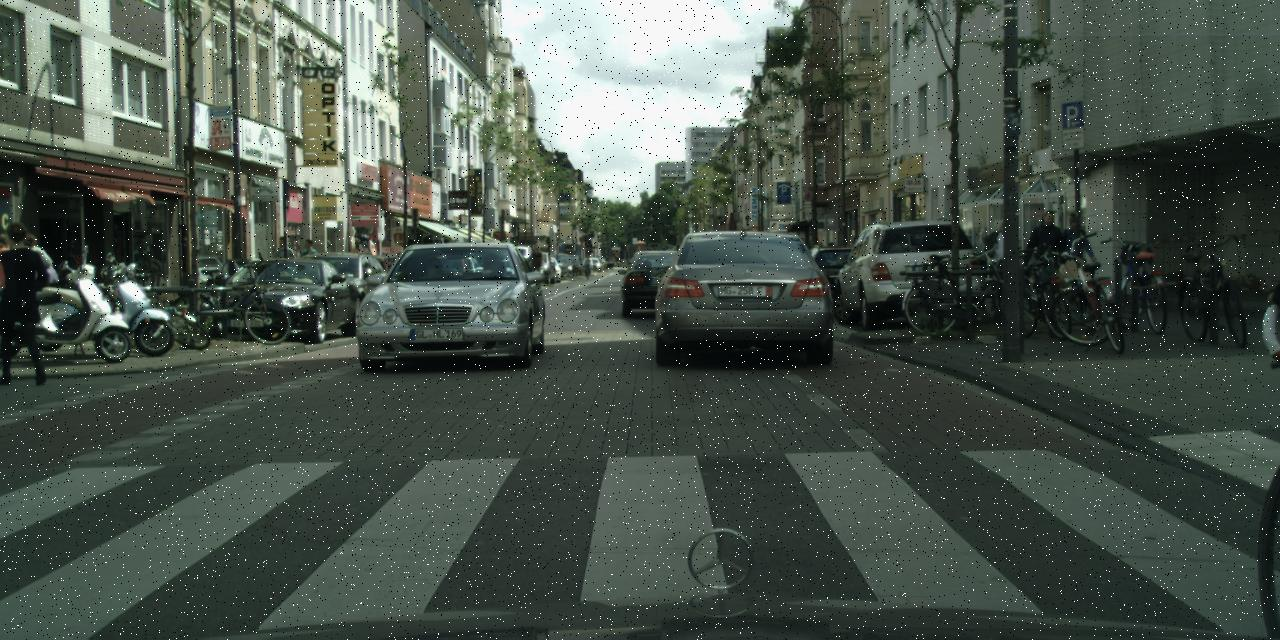ped: (0, 220, 54, 382), (1028, 210, 1068, 307), (1054, 212, 1092, 307), (9, 232, 46, 326), (989, 221, 1019, 295), (270, 236, 296, 300), (297, 240, 322, 302), (842, 236, 860, 280), (824, 242, 840, 282)
